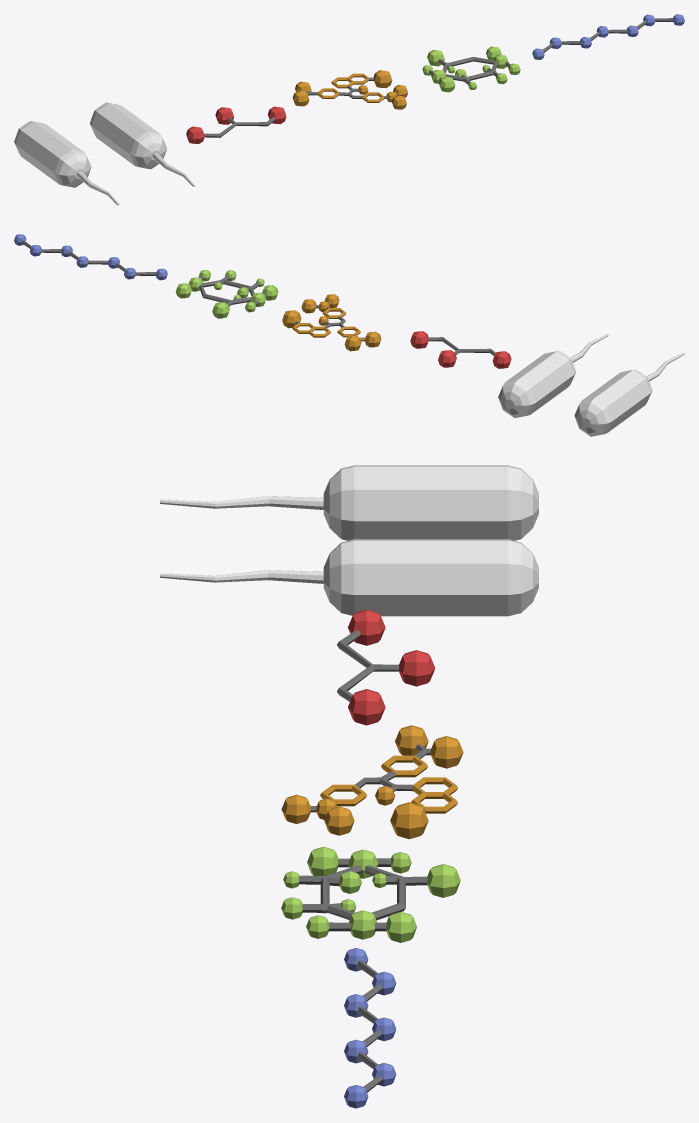
File: labassets2.fbx
3 views of the same model, one above another, from view 1: azimuth 30°, elevation 25°; view 2: azimuth 150°, elevation 25°; view 3: azimuth 270°, elevation 25° (orthographic). The views are drawn at different scales.
Visible parts, largest first — view 1: NormalBacteria, MirrorBacteria, Glucose(NormalBacteriaEat), C5a(CanHarmMirrorLife), RandomAMP(Can'tHarmMirrorLife), Glycerol(MirrorLifeEat); view 2: NormalBacteria, MirrorBacteria, Glucose(NormalBacteriaEat), C5a(CanHarmMirrorLife), RandomAMP(Can'tHarmMirrorLife), Glycerol(MirrorLifeEat); view 3: NormalBacteria, MirrorBacteria, Glucose(NormalBacteriaEat), C5a(CanHarmMirrorLife), Glycerol(MirrorLifeEat), RandomAMP(Can'tHarmMirrorLife).
Boxes of the visible parts, box(x1,y1,x2,y2) form: NormalBacteria: box(89, 102, 194, 186); MirrorBacteria: box(14, 121, 119, 205); Glucose(NormalBacteriaEat): box(422, 46, 520, 92); C5a(CanHarmMirrorLife): box(292, 70, 407, 109); RandomAMP(Can'tHarmMirrorLife): box(532, 14, 684, 59); Glycerol(MirrorLifeEat): box(186, 106, 286, 143); NormalBacteria: box(498, 334, 608, 417); MirrorBacteria: box(574, 352, 684, 436); Glucose(NormalBacteriaEat): box(175, 270, 278, 318); C5a(CanHarmMirrorLife): box(282, 294, 381, 351); RandomAMP(Can'tHarmMirrorLife): box(14, 234, 167, 280); Glycerol(MirrorLifeEat): box(410, 331, 511, 368); NormalBacteria: box(160, 539, 538, 616); MirrorBacteria: box(160, 465, 538, 540); Glucose(NormalBacteriaEat): box(281, 846, 460, 942); C5a(CanHarmMirrorLife): box(281, 725, 463, 839); Glycerol(MirrorLifeEat): box(337, 609, 435, 725); RandomAMP(Can'tHarmMirrorLife): box(344, 948, 396, 1108).
Size of the model in its own units: 23.02 by 1.3 by 5.99.
